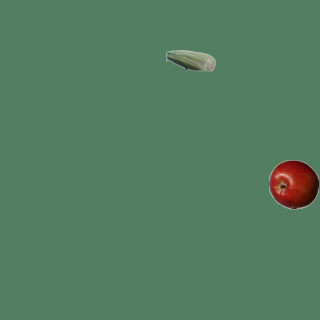Apple Braeburn: (268, 159, 318, 209)
Corn Husk: (165, 35, 215, 85)
